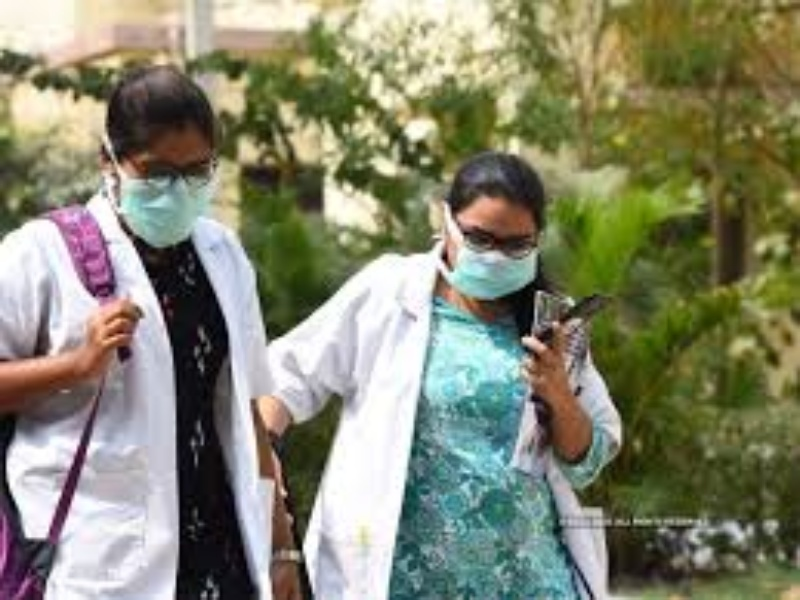person: (313, 41, 742, 582)
